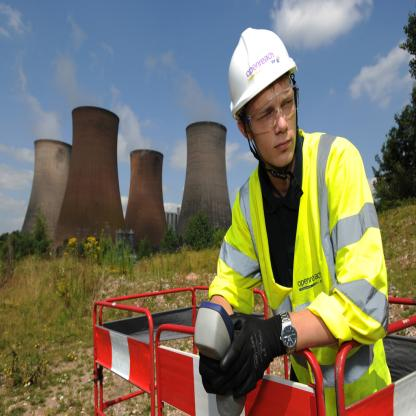Helmet: (230, 28, 302, 186)
